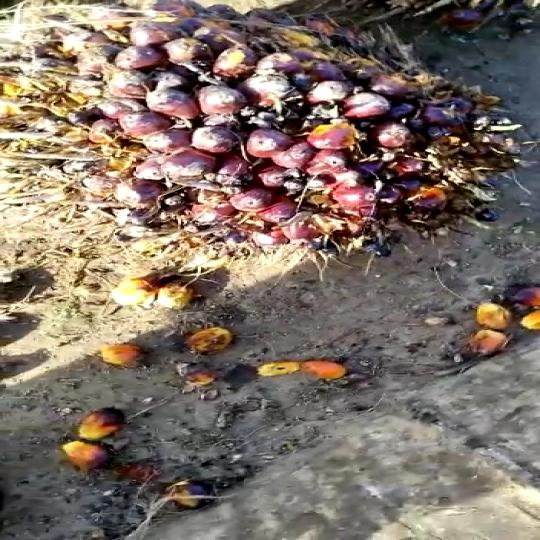masak: (0, 11, 520, 264)
